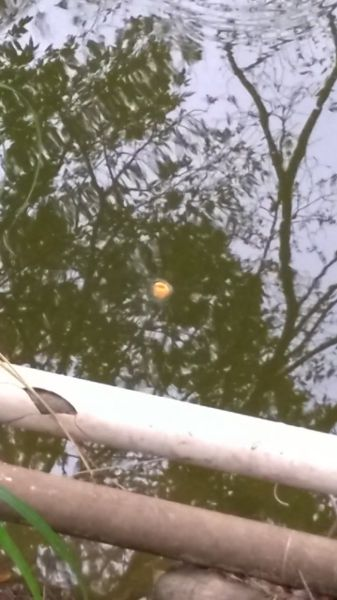eggs: (148, 275, 176, 303)
